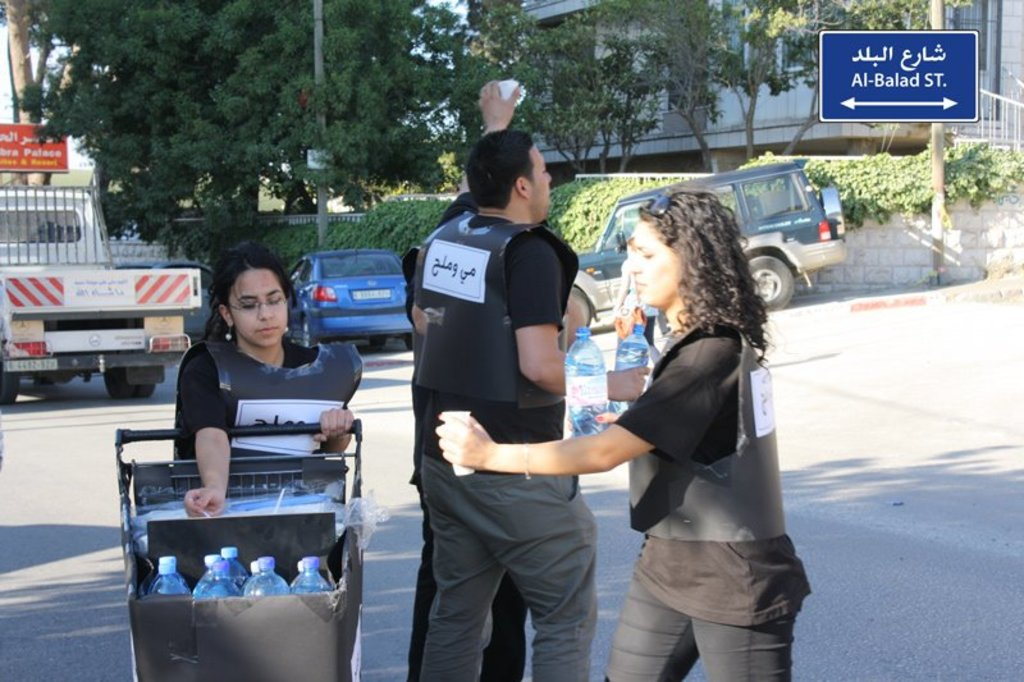Car: (544, 156, 844, 351), (277, 244, 410, 354), (108, 261, 221, 348)
